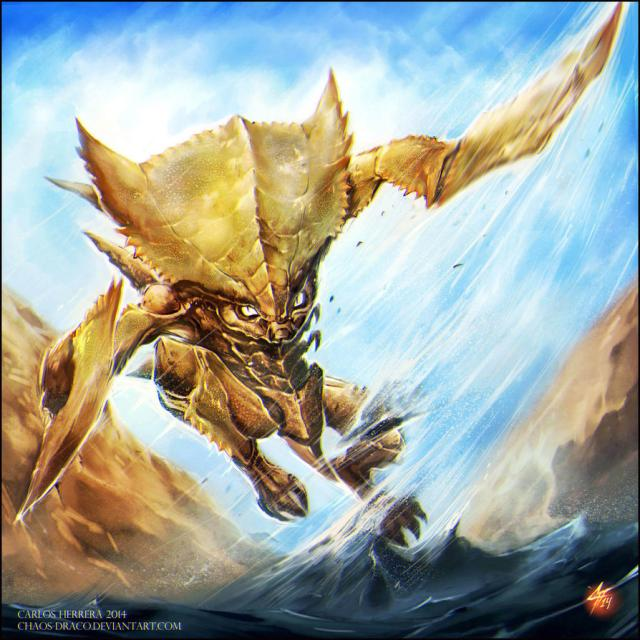Kabutops: (53, 107, 450, 471)
